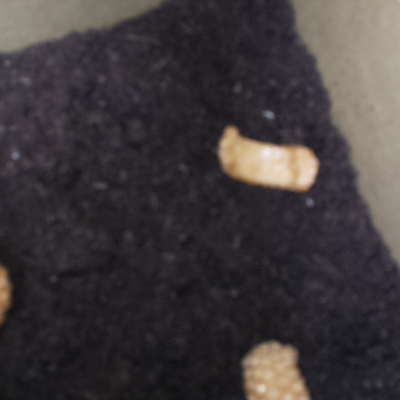eggs: (213, 118, 329, 197), (232, 330, 313, 400), (1, 249, 20, 336)
